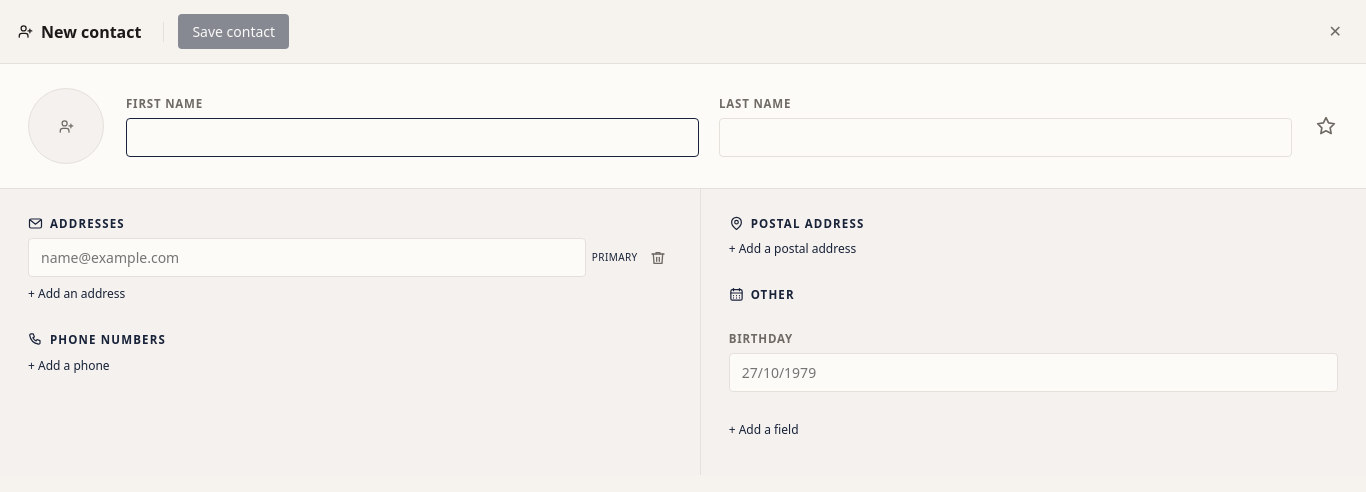
Test: ContactEditView › enables save on a name alone
The image size is (1366, 492).
Type "Bruno" into the field labelled "First name" at (412, 138), box [126, 118, 699, 157]
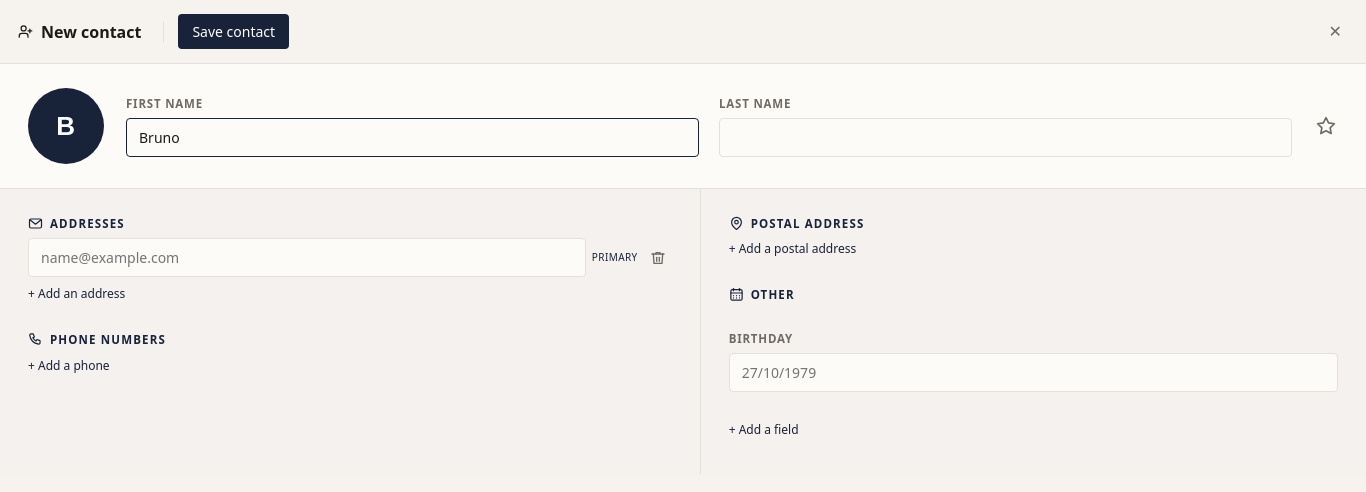
Expected: the button "Save contact" is enabled, [178, 14, 289, 49]
